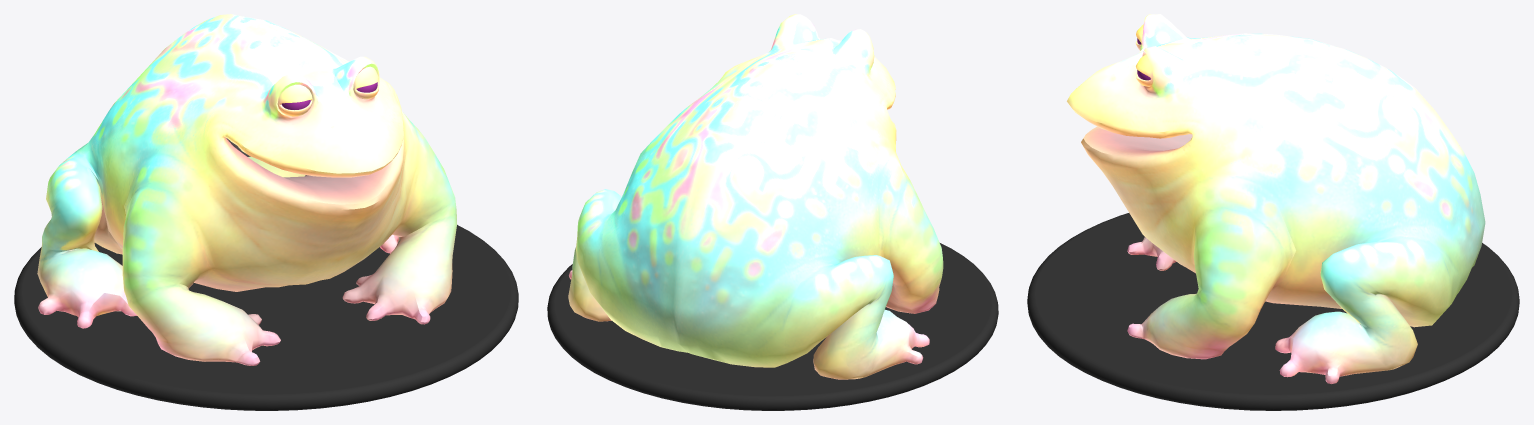
The picture shows the model from 3 angles, left to right: view 1: azimuth 30°, elevation 25°; view 2: azimuth 150°, elevation 25°; view 3: azimuth 270°, elevation 25°; orthographic projection. The views are drawn at different scales.
Visible parts, largest first — view 1: sa.002, BezierCircle_Mesh; view 2: sa.002, BezierCircle_Mesh; view 3: sa.002, BezierCircle_Mesh.
Boxes of the visible parts, <box> form: sa.002: <box>37,14,456,365</box>; BezierCircle_Mesh: <box>14,225,518,410</box>; sa.002: <box>568,14,943,379</box>; BezierCircle_Mesh: <box>547,243,998,410</box>; sa.002: <box>1067,14,1485,383</box>; BezierCircle_Mesh: <box>1027,213,1519,410</box>.
Bounding box in the file's own units: 1.99 × 1.23 × 1.99.
